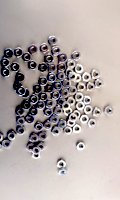nut: (1, 68, 11, 78), (0, 58, 10, 68), (28, 61, 38, 71), (48, 36, 58, 46), (68, 72, 78, 82), (45, 84, 55, 94), (82, 72, 92, 82), (23, 52, 32, 63), (40, 43, 49, 54), (4, 49, 14, 58), (11, 63, 21, 72), (16, 73, 25, 83), (29, 45, 38, 55), (45, 54, 54, 64), (39, 63, 48, 73), (72, 51, 81, 61), (59, 53, 68, 63), (39, 93, 49, 102), (33, 85, 43, 94), (84, 106, 94, 115), (105, 106, 114, 116), (76, 102, 86, 111), (48, 63, 57, 73), (39, 77, 49, 86), (57, 72, 67, 81), (47, 74, 57, 83), (53, 82, 63, 91), (51, 91, 61, 100), (63, 79, 72, 89), (57, 63, 67, 72), (75, 64, 84, 74), (77, 83, 87, 92), (77, 142, 86, 151), (30, 134, 39, 143), (39, 132, 48, 141), (52, 127, 61, 136), (16, 117, 25, 126), (35, 123, 44, 132), (16, 108, 25, 117), (37, 143, 46, 152), (89, 119, 98, 128), (44, 108, 53, 117), (81, 115, 90, 124), (17, 87, 26, 96), (22, 89, 31, 98), (52, 47, 61, 56), (30, 95, 39, 104), (46, 99, 55, 108), (62, 102, 71, 111), (73, 110, 82, 119), (84, 96, 93, 105), (75, 93, 84, 102), (61, 89, 70, 98), (69, 86, 78, 95), (67, 60, 76, 69), (92, 70, 101, 79), (95, 80, 104, 89), (87, 83, 96, 92), (15, 48, 23, 58), (8, 131, 16, 141), (30, 107, 38, 117), (70, 113, 78, 123), (55, 106, 63, 116), (17, 127, 26, 135), (32, 147, 41, 155), (44, 121, 52, 130), (26, 115, 34, 124), (59, 120, 67, 129), (74, 125, 82, 134), (23, 101, 31, 110), (51, 115, 59, 124), (14, 82, 22, 91), (37, 101, 45, 110), (64, 108, 73, 116), (94, 108, 102, 117), (58, 98, 66, 107), (68, 97, 76, 106), (49, 64, 57, 73), (66, 69, 74, 78), (74, 74, 82, 83), (3, 140, 11, 148), (27, 144, 35, 152), (65, 127, 73, 135), (59, 169, 68, 176), (58, 161, 66, 168), (32, 154, 41, 160), (68, 121, 76, 127), (0, 133, 3, 142), (0, 143, 2, 151)
